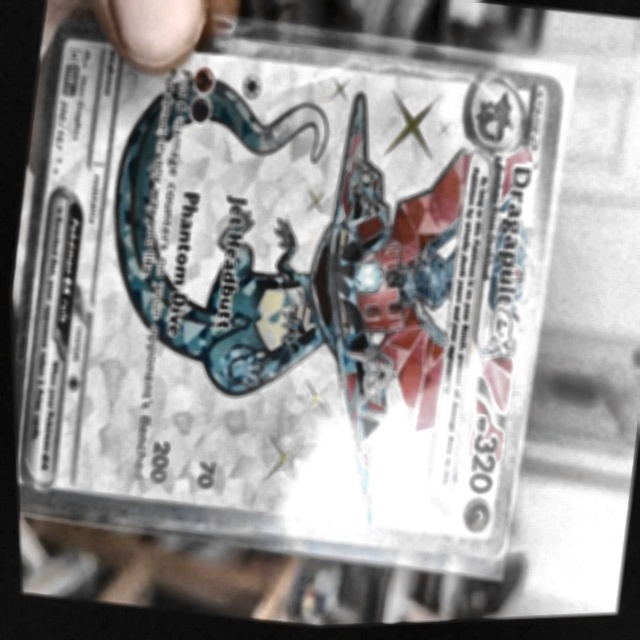card: (11, 14, 563, 565)
